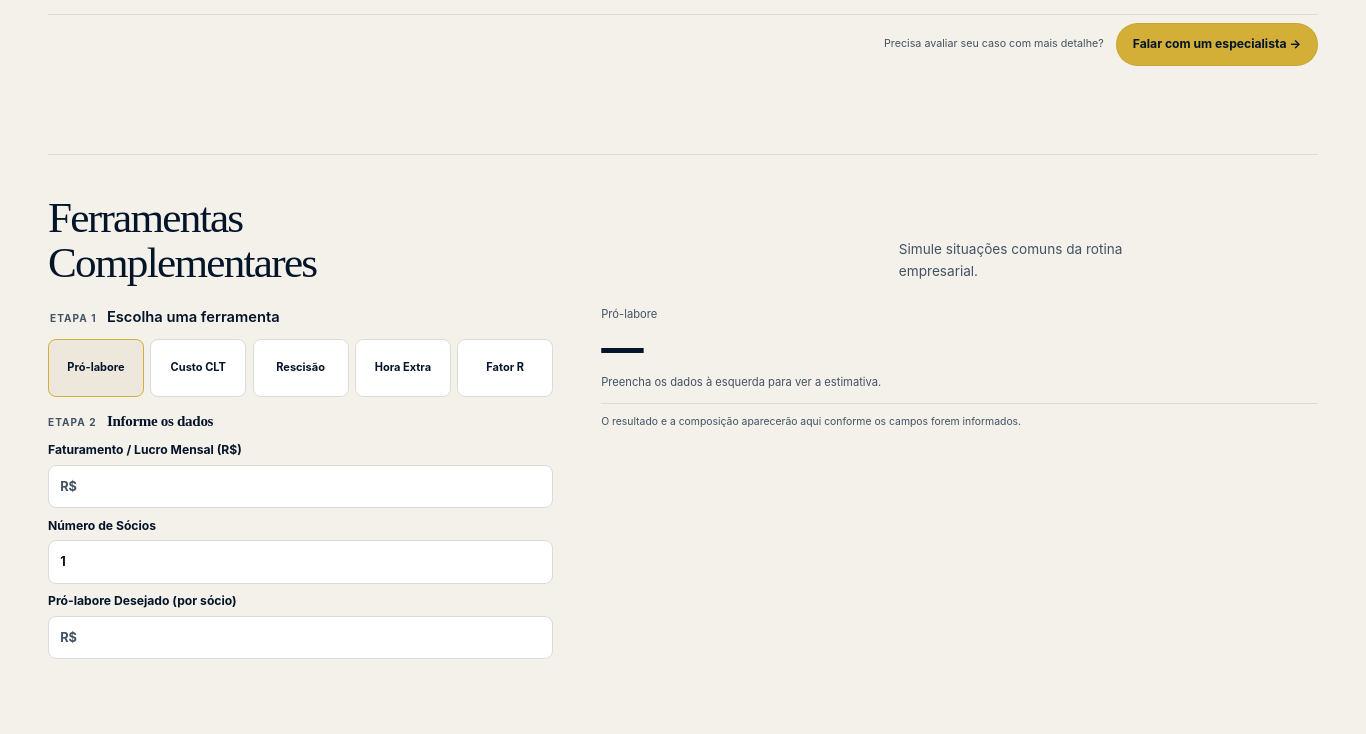
Test case: Ferramentas Complementares › mostra Fator R, compara com o parâmetro legado e preserva a atividade escolhida
(page scrolled)
Click the button "Fator R" at point(505, 368), box [457,339,553,397]
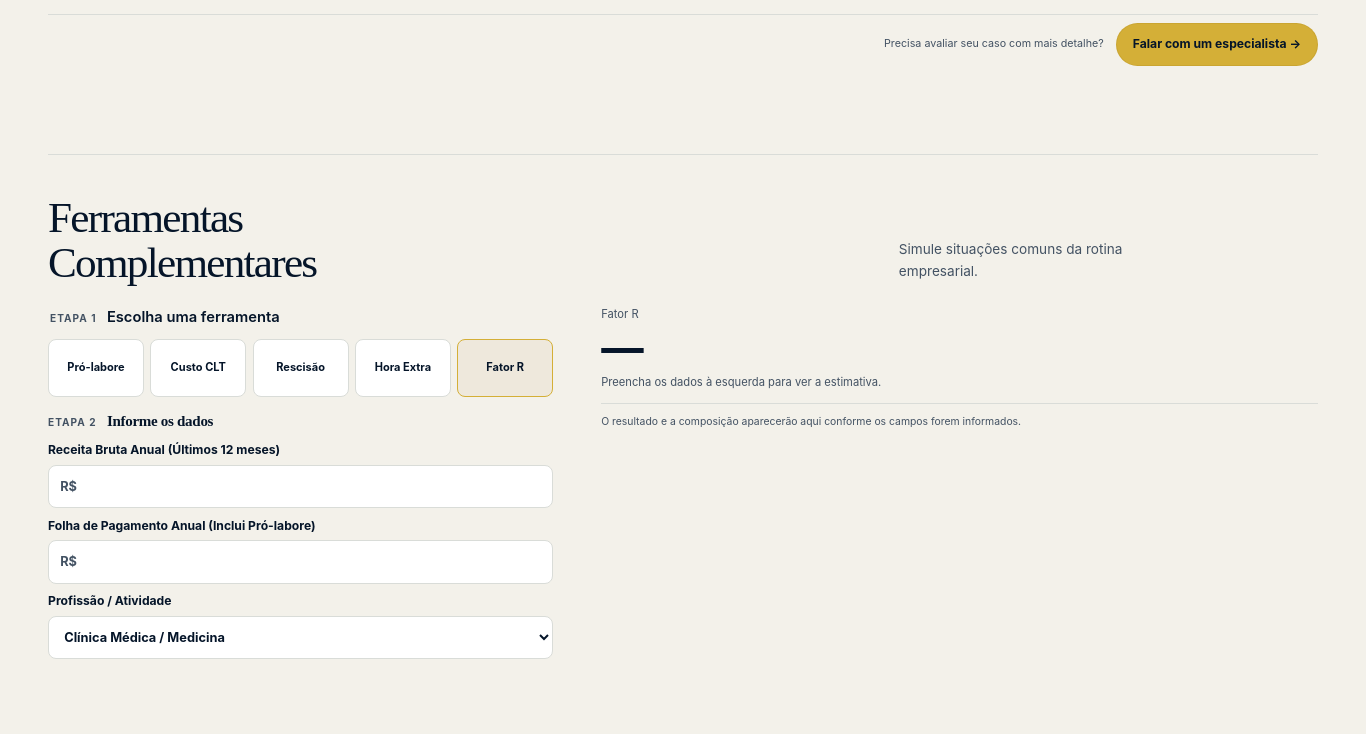
Type "10000000" into the field labelled "Receita Bruta Anual (Últimos 12 meses) R$" at point(315, 486), box [77,466,552,507]
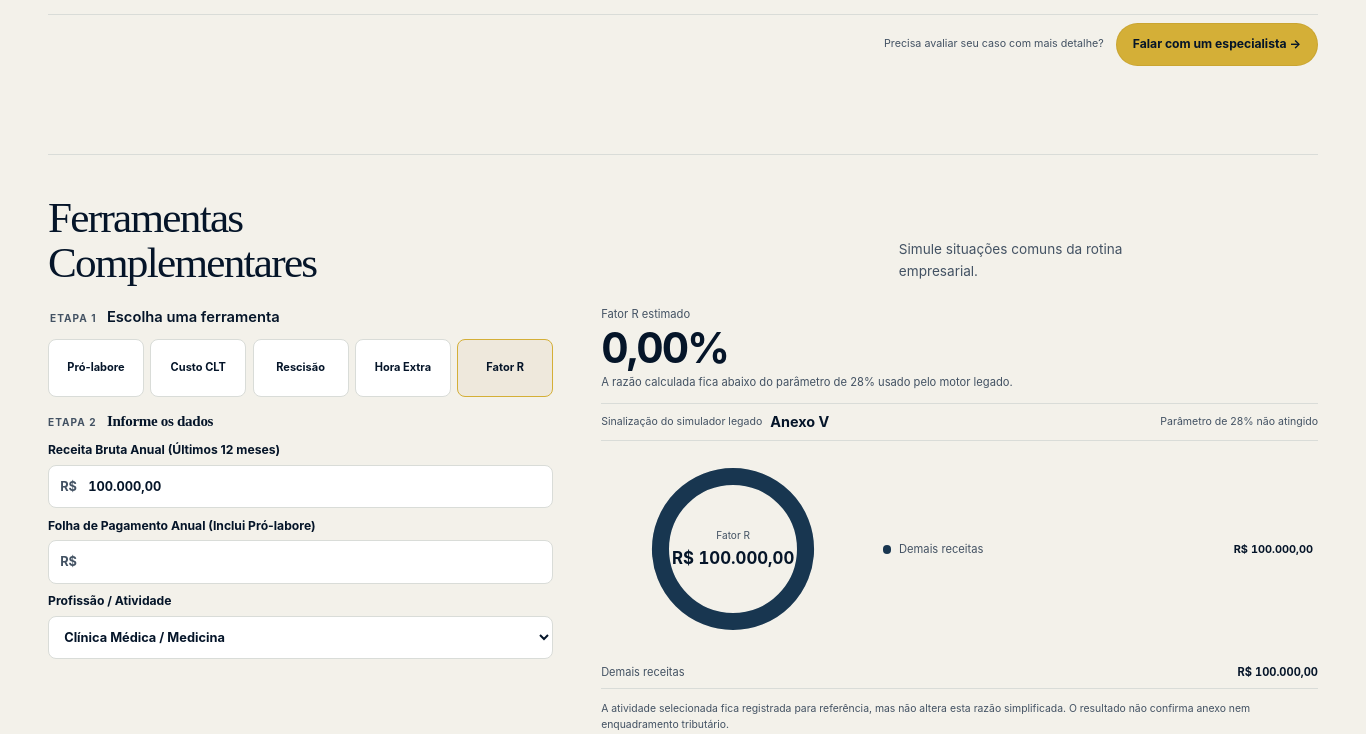
Type "2800000" into the field labelled "Folha de Pagamento Anual (Inclui Pró-labore) R$" at point(315, 562), box [77,542,552,583]
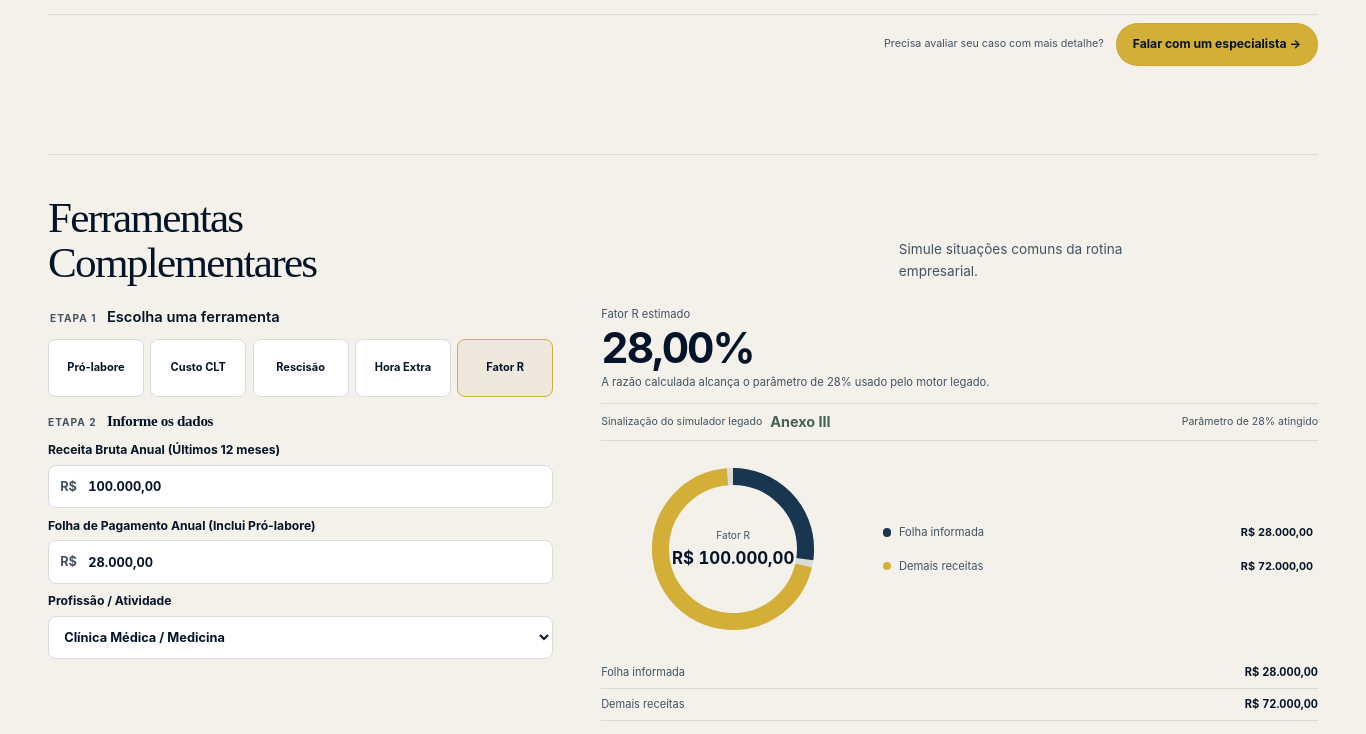
Select "Advocacia" in the dropdown labelled "Profissão / Atividade" at point(301, 638), box [48,616,553,659]
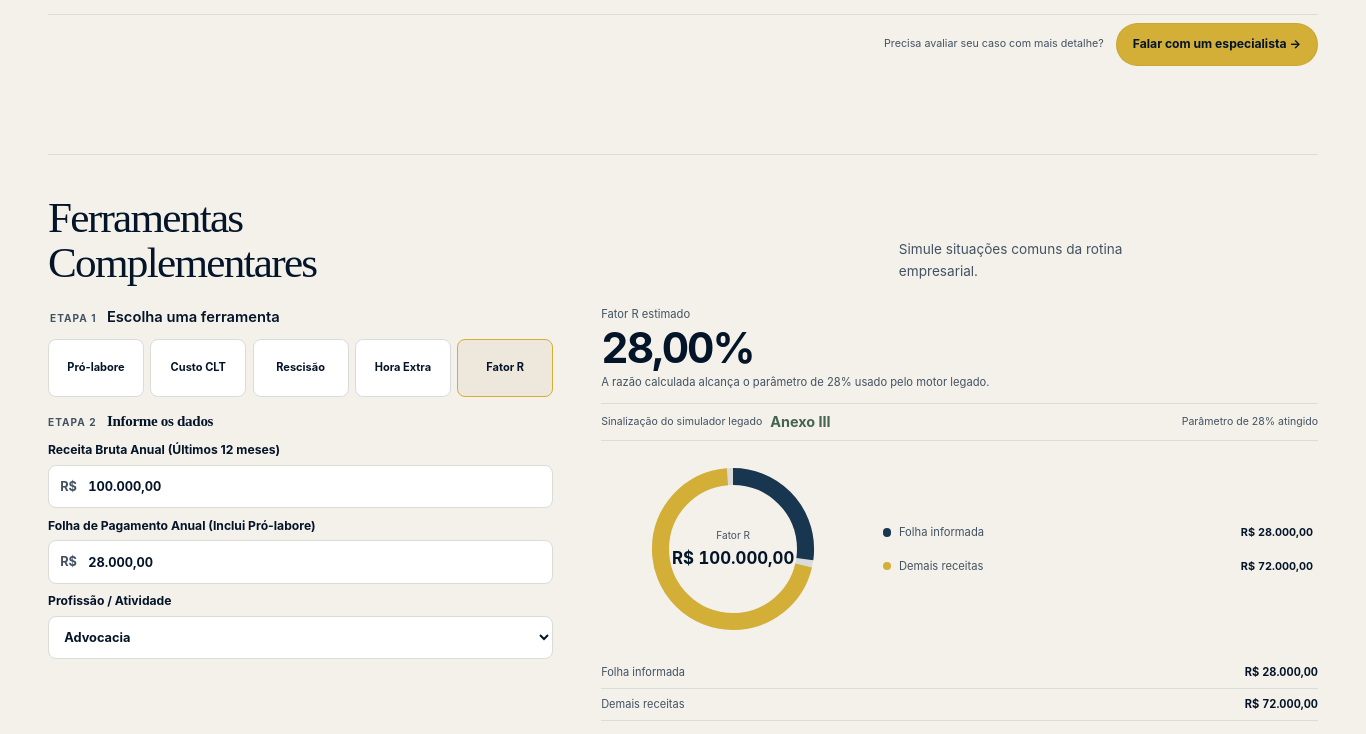
Now the message shows "28,00%", box [601,322,754,373]
Now the text "parâmetro de 28%" is shown, box [601,375,990,389]
Click the button "Hora Extra" at point(403, 368), box [355,339,451,397]
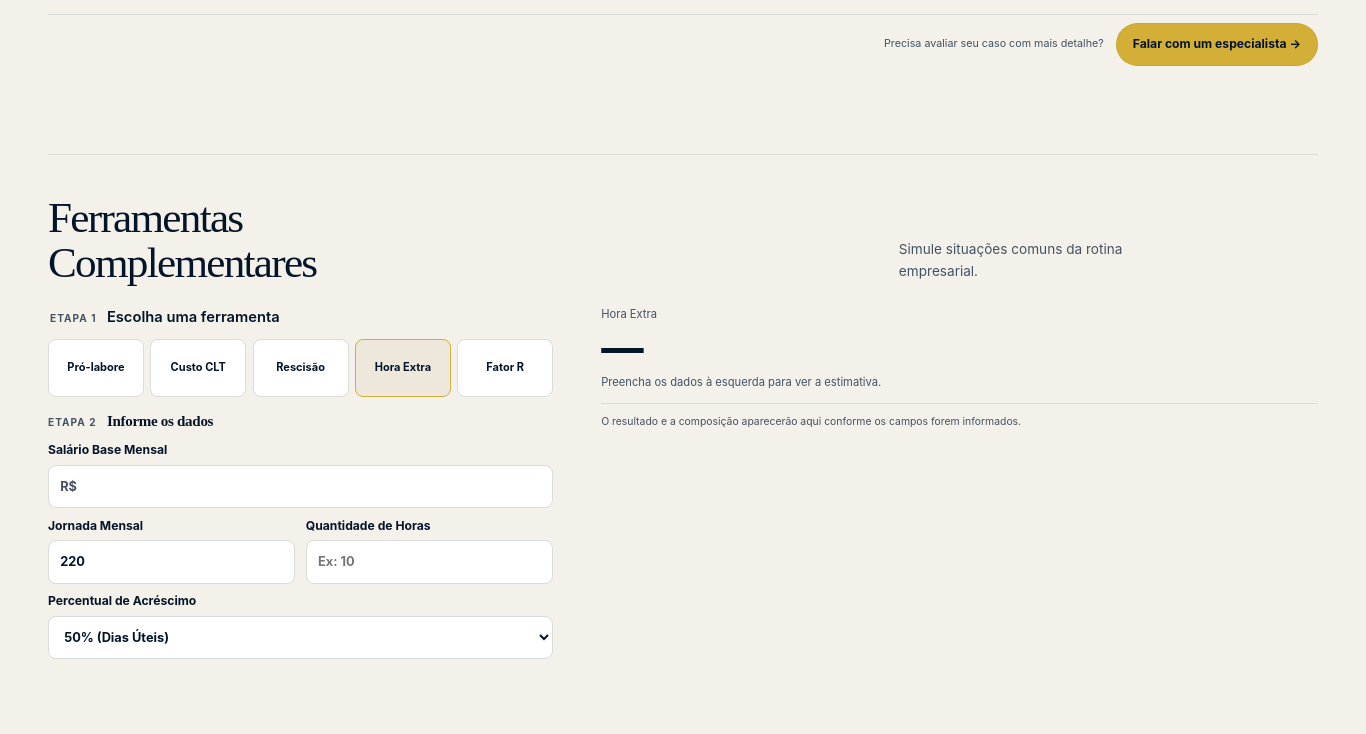
Click the button "Fator R" at point(505, 368), box [457,339,553,397]
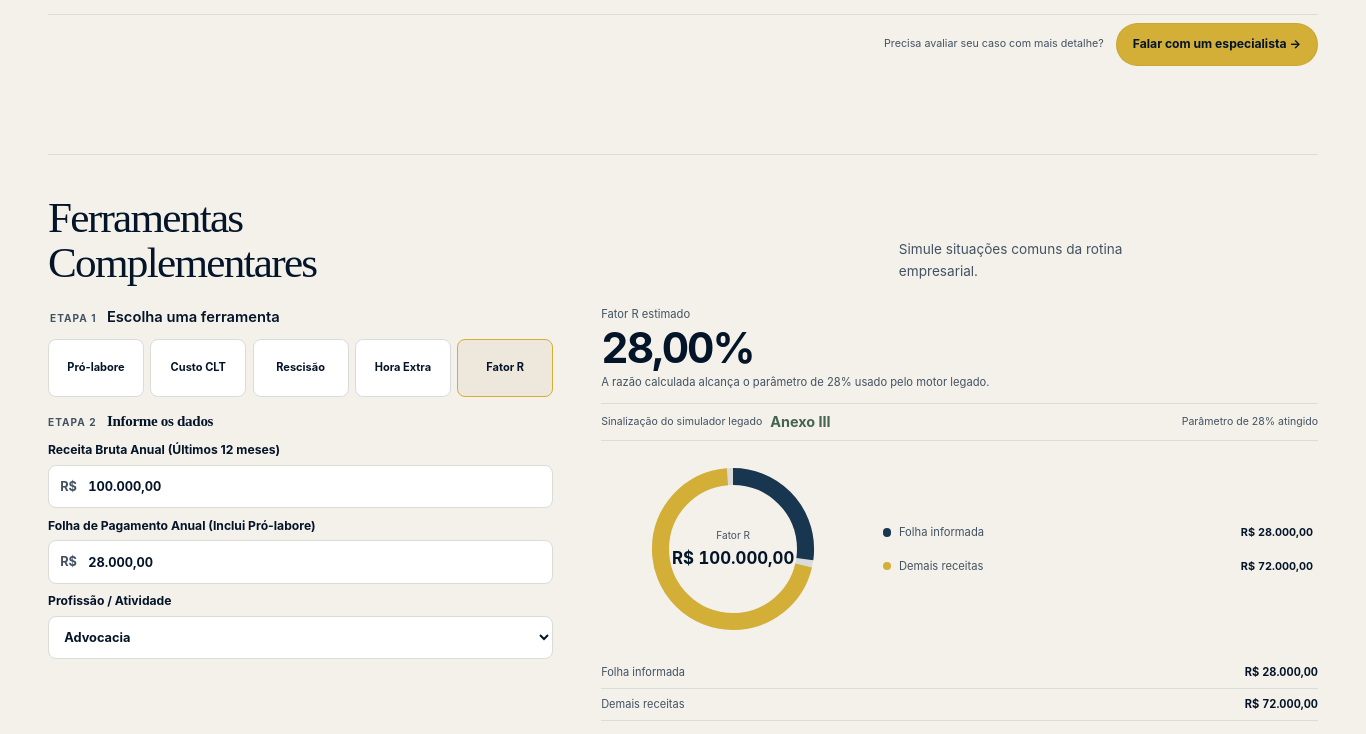
Now the field labelled "Receita Bruta Anual (Últimos 12 meses) R$" holds "100.000,00", box [77,466,552,507]
Now the message shows "28,00%", box [601,322,754,373]
